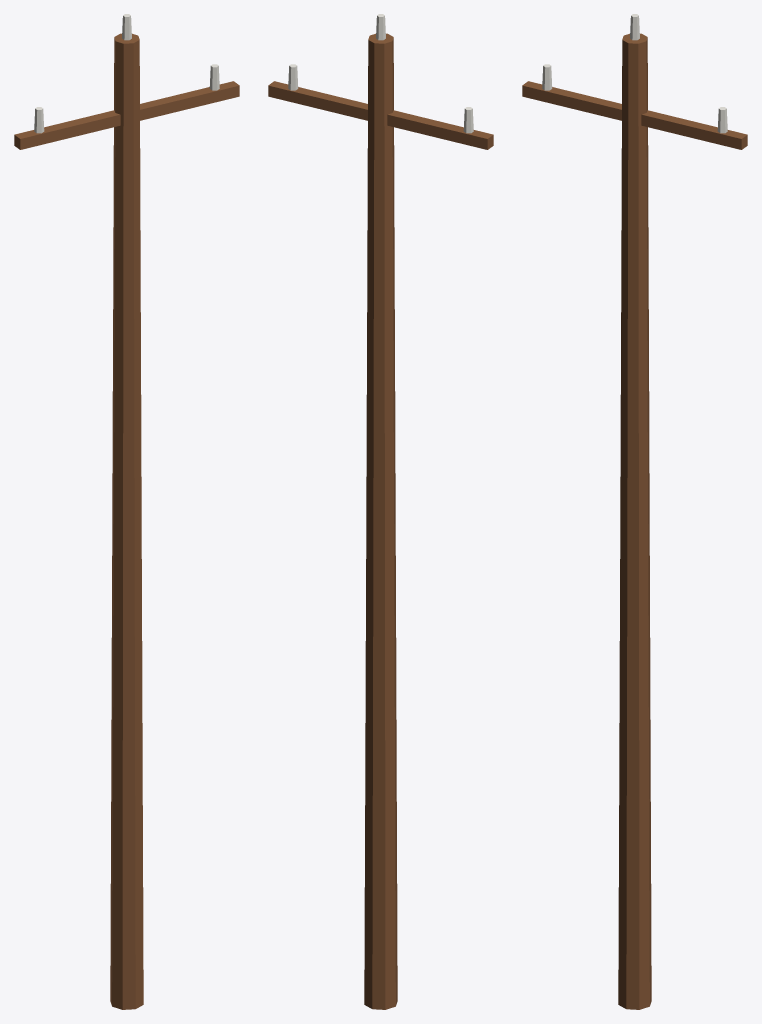
File: Pole_Utility_Wood.glb
3 views of the same model, side by side, from view 1: azimuth 30°, elevation 25°; view 2: azimuth 150°, elevation 25°; view 3: azimuth 330°, elevation 25° (orthographic).
Visible parts, largest first — view 1: Pole_Utility_Wood_Wood, Pole_Utility_Wood_PaintWhite; view 2: Pole_Utility_Wood_Wood, Pole_Utility_Wood_PaintWhite; view 3: Pole_Utility_Wood_Wood, Pole_Utility_Wood_PaintWhite.
Part boxes in pixels (x1,y1,x2,y2): Pole_Utility_Wood_Wood: (14, 33, 239, 1009); Pole_Utility_Wood_PaintWhite: (34, 14, 219, 133); Pole_Utility_Wood_Wood: (268, 33, 493, 1009); Pole_Utility_Wood_PaintWhite: (288, 14, 473, 133); Pole_Utility_Wood_Wood: (522, 33, 747, 1009); Pole_Utility_Wood_PaintWhite: (542, 14, 727, 133).
Size of the model in its own units: 2.5 by 10.75 by 0.34.
